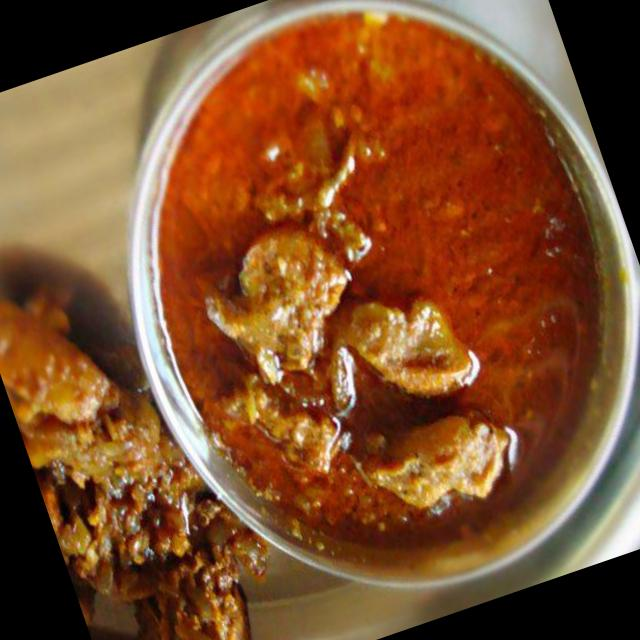chicken: (109, 0, 640, 597), (0, 251, 275, 640)
